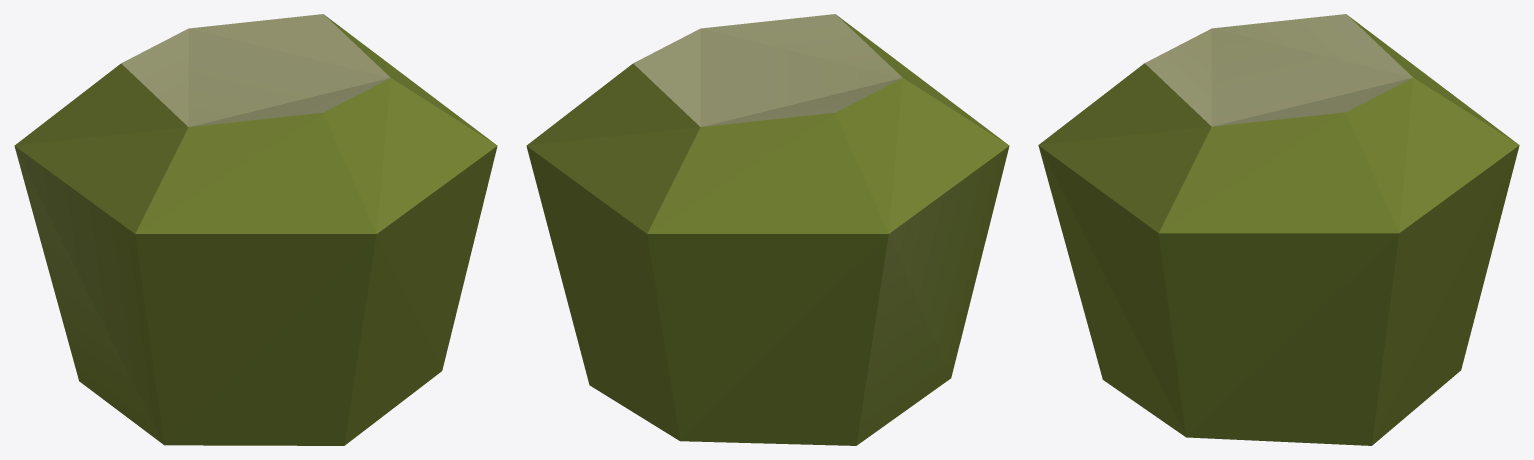
The model's file is Flat_Cactus_09.fbx.
3 renders of one model, left to right at view 1: azimuth 30°, elevation 25°; view 2: azimuth 150°, elevation 25°; view 3: azimuth 270°, elevation 25°, orthographic.
Visible parts, largest first — view 1: Cactus_09; view 2: Cactus_09; view 3: Cactus_09.
Part boxes in pixels (<box>): Cactus_09: <box>14,14,497,445</box>; Cactus_09: <box>526,14,1009,445</box>; Cactus_09: <box>1038,14,1519,445</box>.
Size of the model in its own units: 55.68 by 46.98 by 64.3.
